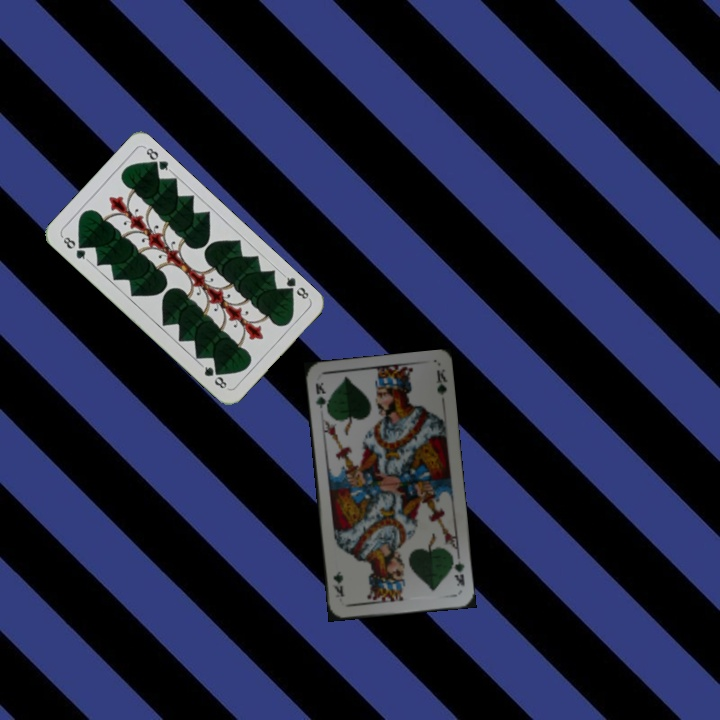G8: (279, 270, 311, 302), (58, 232, 91, 263)
GK: (311, 379, 331, 416), (448, 552, 467, 589)
